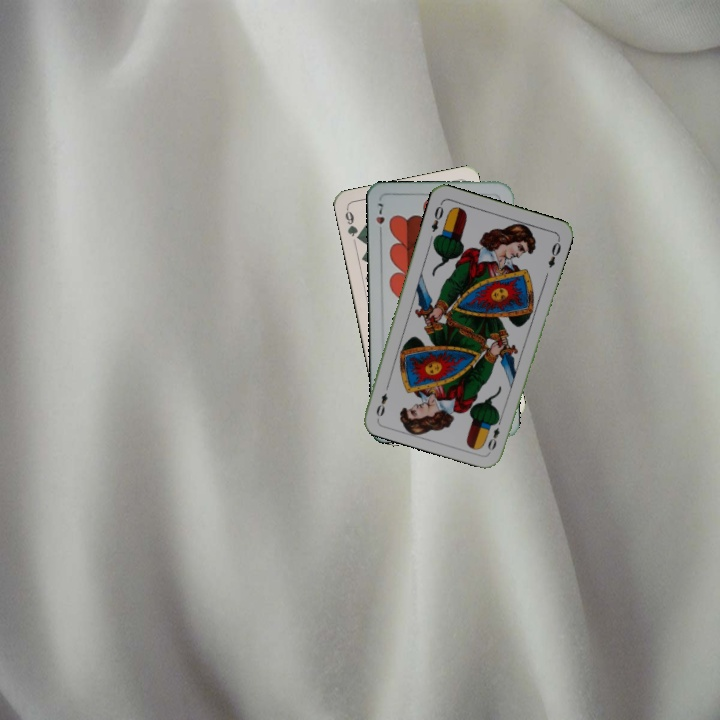EO: (484, 414, 504, 453), (427, 199, 446, 234)
G9: (341, 205, 364, 244)
H7: (372, 198, 387, 238)
